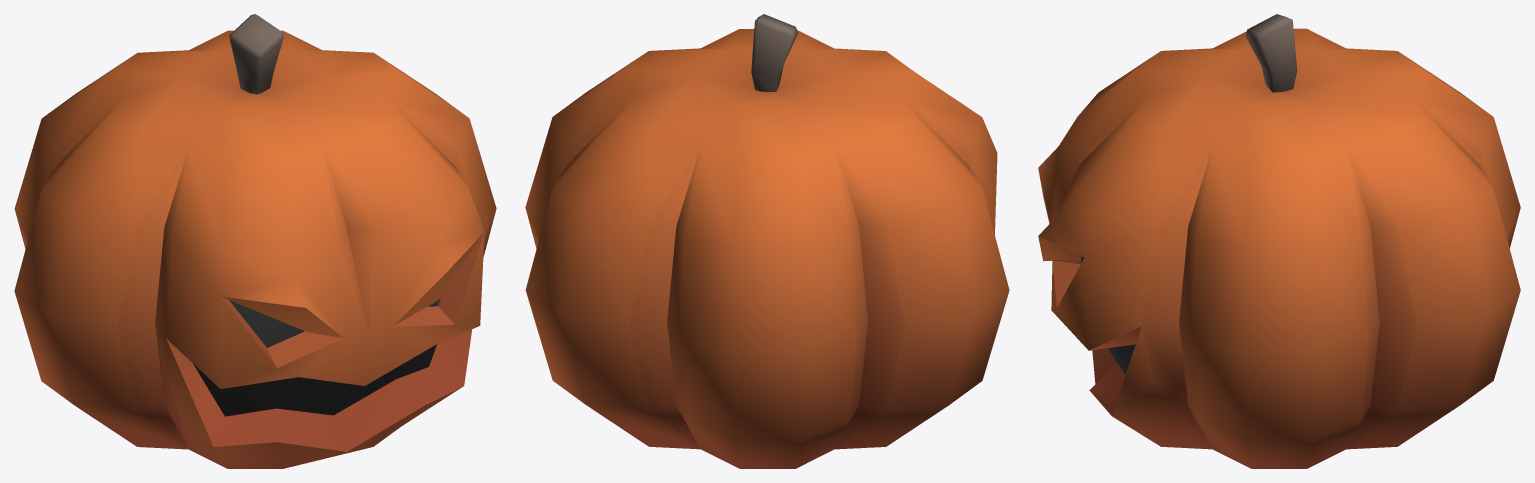
The model's file is prop_pumpkin_jack.glb.
The picture shows the model from 3 angles, left to right: view 1: azimuth 30°, elevation 25°; view 2: azimuth 150°, elevation 25°; view 3: azimuth 270°, elevation 25°; orthographic projection.
Visible parts, largest first — view 1: pumpkin_orange_jackolantern; view 2: pumpkin_orange_jackolantern; view 3: pumpkin_orange_jackolantern.
Part boxes in pixels (x1,y1,x2,y2): pumpkin_orange_jackolantern: (14, 14, 496, 468); pumpkin_orange_jackolantern: (525, 14, 1009, 468); pumpkin_orange_jackolantern: (1038, 14, 1520, 468).
Size of the model in its own units: 1.5 by 1.3 by 1.4.
Materials: 1 (1 with a texture image).
